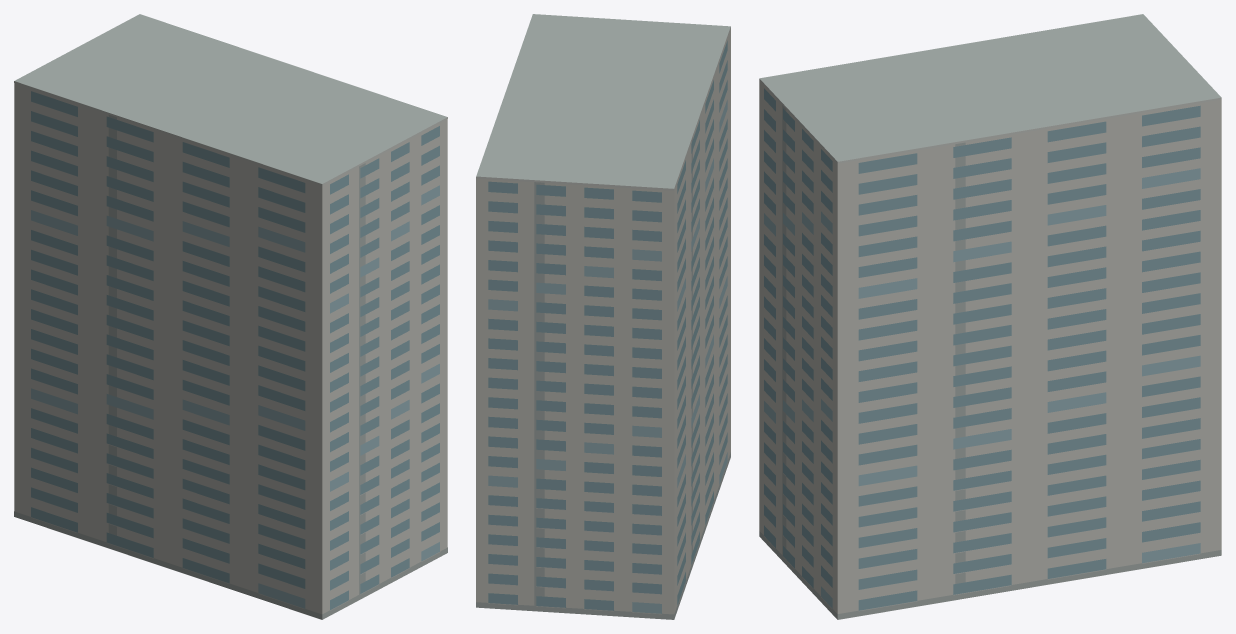
Rendered from residential-056fe3f0-a5b5-4e4d-86ab-5d7eba5b2669.glb.
The picture shows the model from 3 angles, left to right: view 1: azimuth 30°, elevation 25°; view 2: azimuth 150°, elevation 25°; view 3: azimuth 270°, elevation 25°; orthographic projection. The views are drawn at different scales.
Visible parts, largest first — view 1: residential-056fe3f0-a5b5-4e4d-86ab-5d7eba5b2669.tmp; view 2: residential-056fe3f0-a5b5-4e4d-86ab-5d7eba5b2669.tmp; view 3: residential-056fe3f0-a5b5-4e4d-86ab-5d7eba5b2669.tmp.
Boxes of the visible parts, x1,y1,x2,y2 form: residential-056fe3f0-a5b5-4e4d-86ab-5d7eba5b2669.tmp: (14,14,447,619); residential-056fe3f0-a5b5-4e4d-86ab-5d7eba5b2669.tmp: (476,14,730,619); residential-056fe3f0-a5b5-4e4d-86ab-5d7eba5b2669.tmp: (759,14,1221,619).
Size of the model in its own units: 37.39 by 54 by 49.4.
